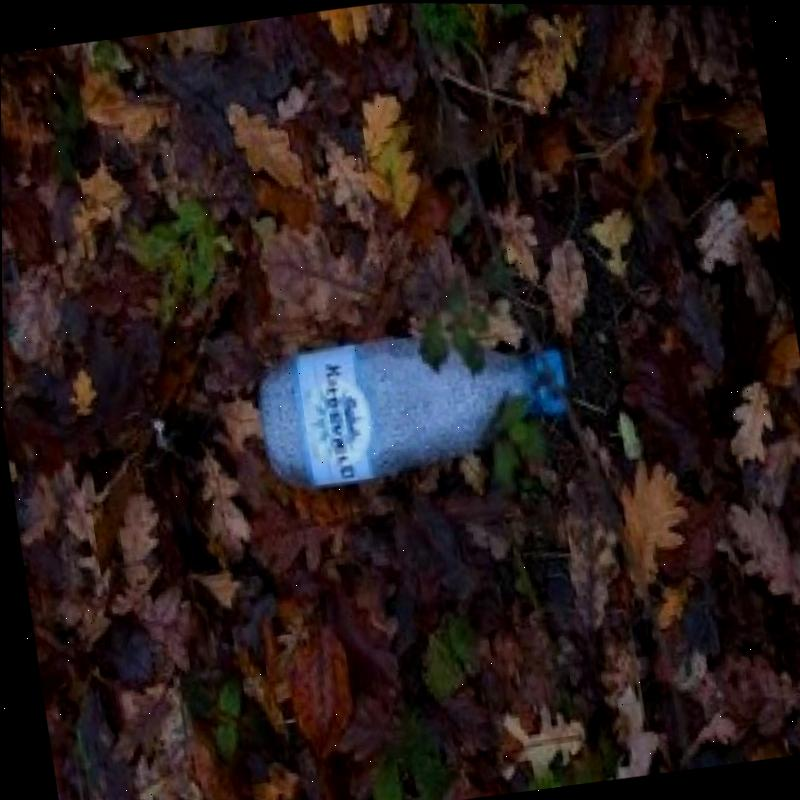botella: (246, 316, 576, 501)
